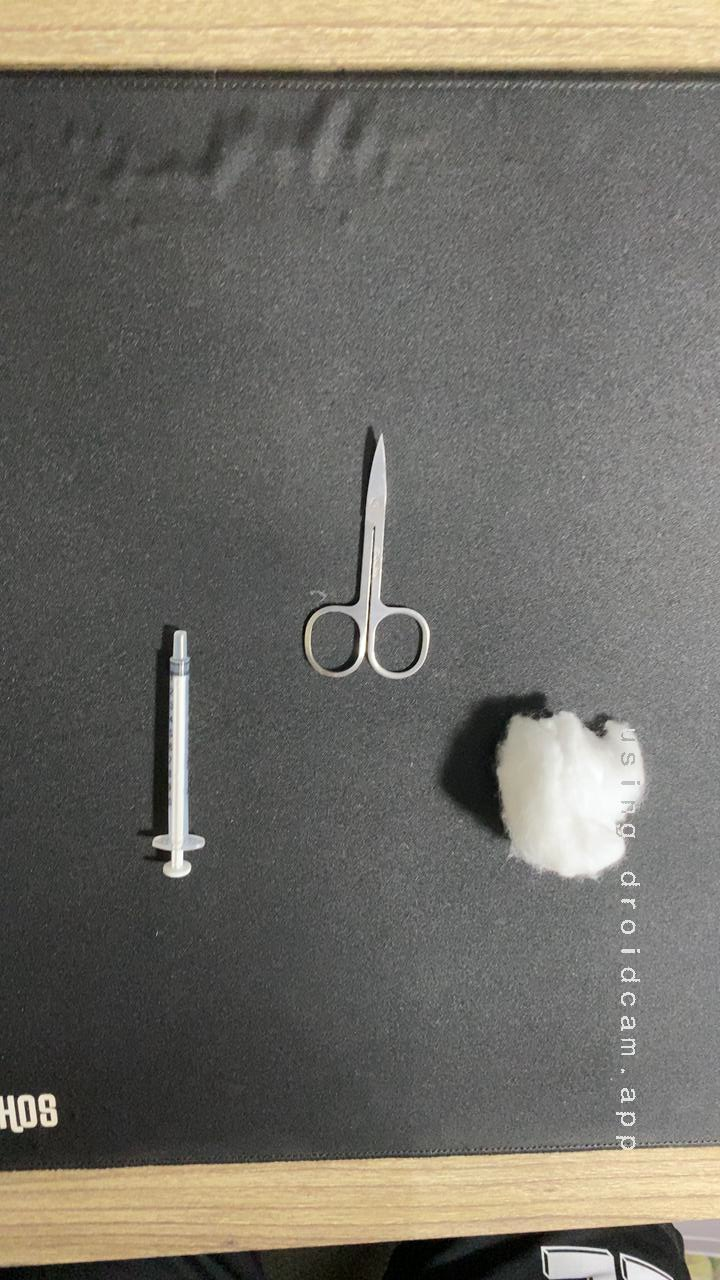cotton: (462, 696, 670, 899)
scissor: (275, 413, 447, 691)
syringe: (126, 613, 239, 895)
